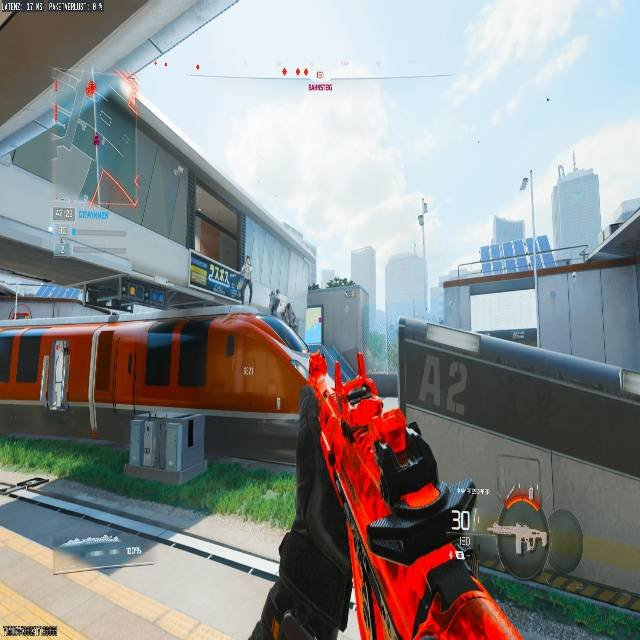player: (270, 293, 294, 324), (268, 288, 281, 315)
